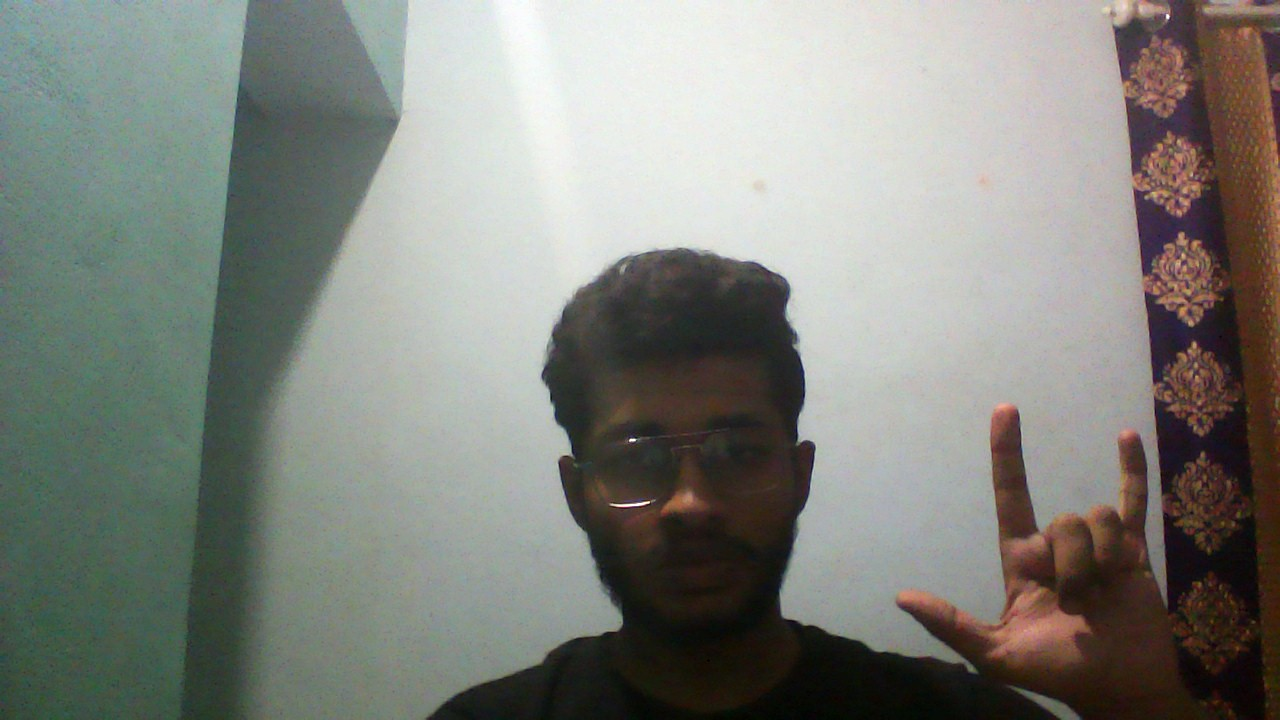I Love You: (864, 348, 1210, 720)
